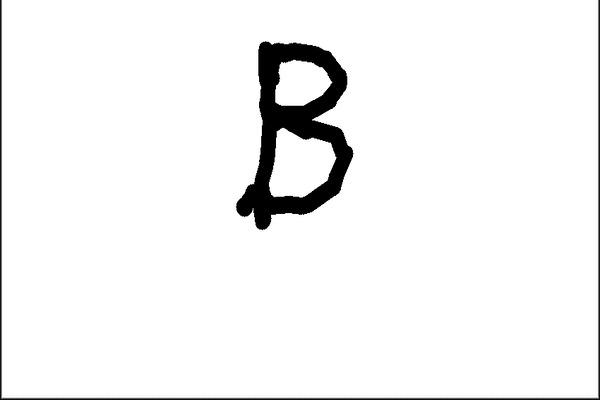B: (230, 27, 360, 233)
